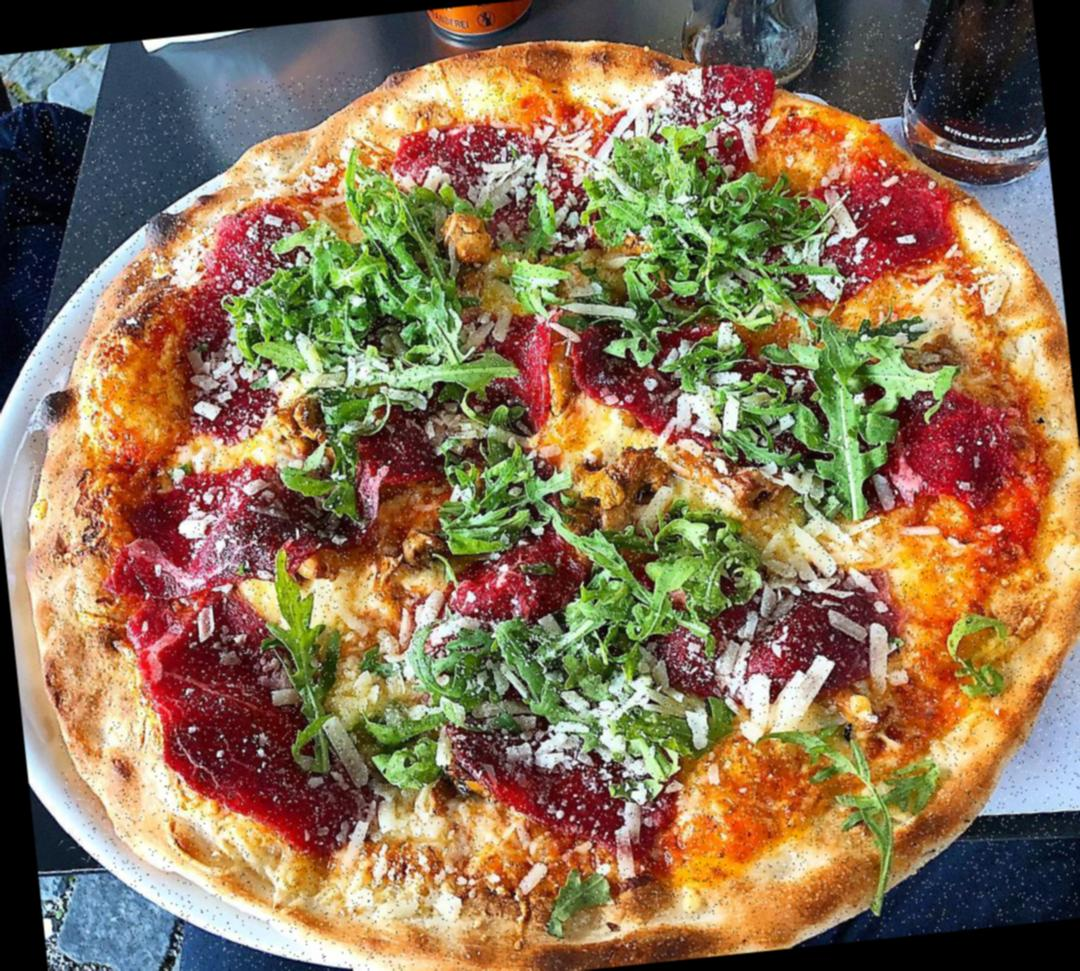Arugula: (374, 556, 764, 759), (281, 210, 486, 374), (623, 146, 798, 314), (753, 340, 927, 502), (448, 464, 558, 540)
Pizza: (0, 0, 1080, 971)
